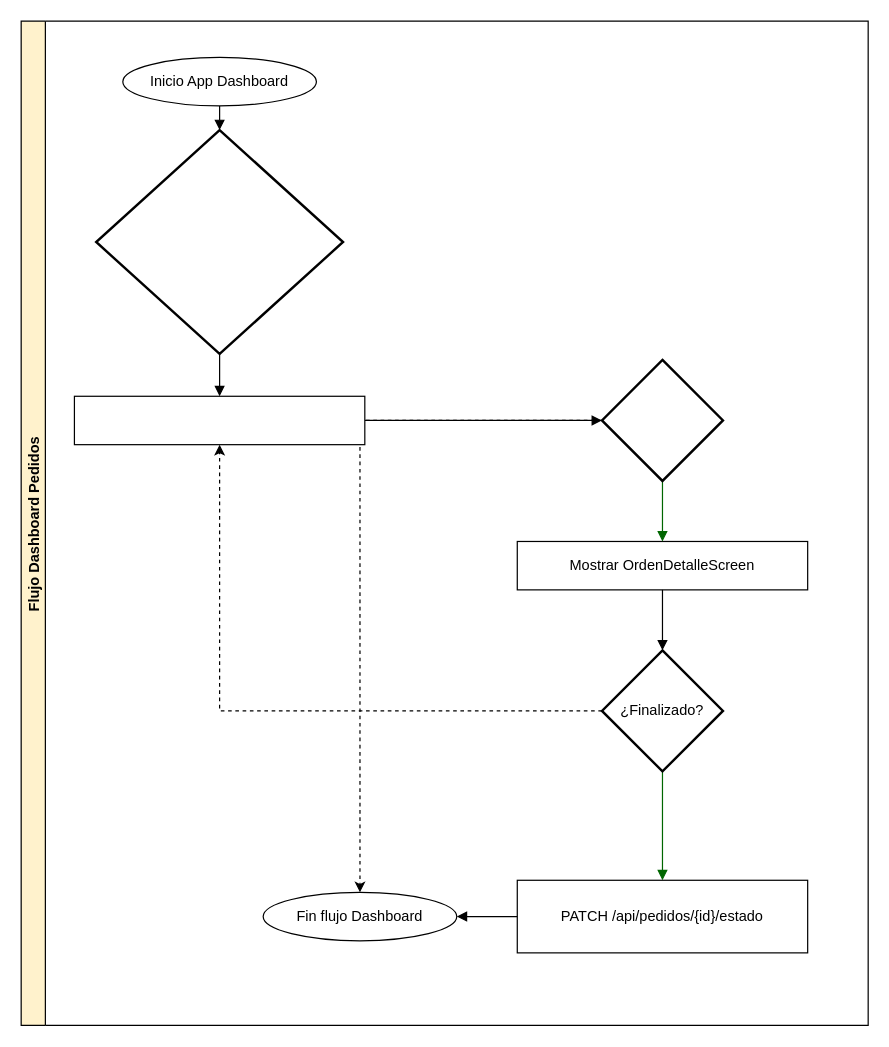
This 889x1047 diagram has some shape labels left out. The shapes that lost their labels are listed below. From the top down, each one's centre as x and y in pixels, then its label:
the point at 219,241: Bucle cada 4s: GET /api/pedidos?estado=PENDIENTE
the point at 219,420: Mostrar lista de pedidos
the point at 662,420: ¿Selecciona pedido?
